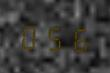five: (43, 19, 66, 53)
six: (67, 20, 90, 54)
zero: (18, 18, 41, 52)
